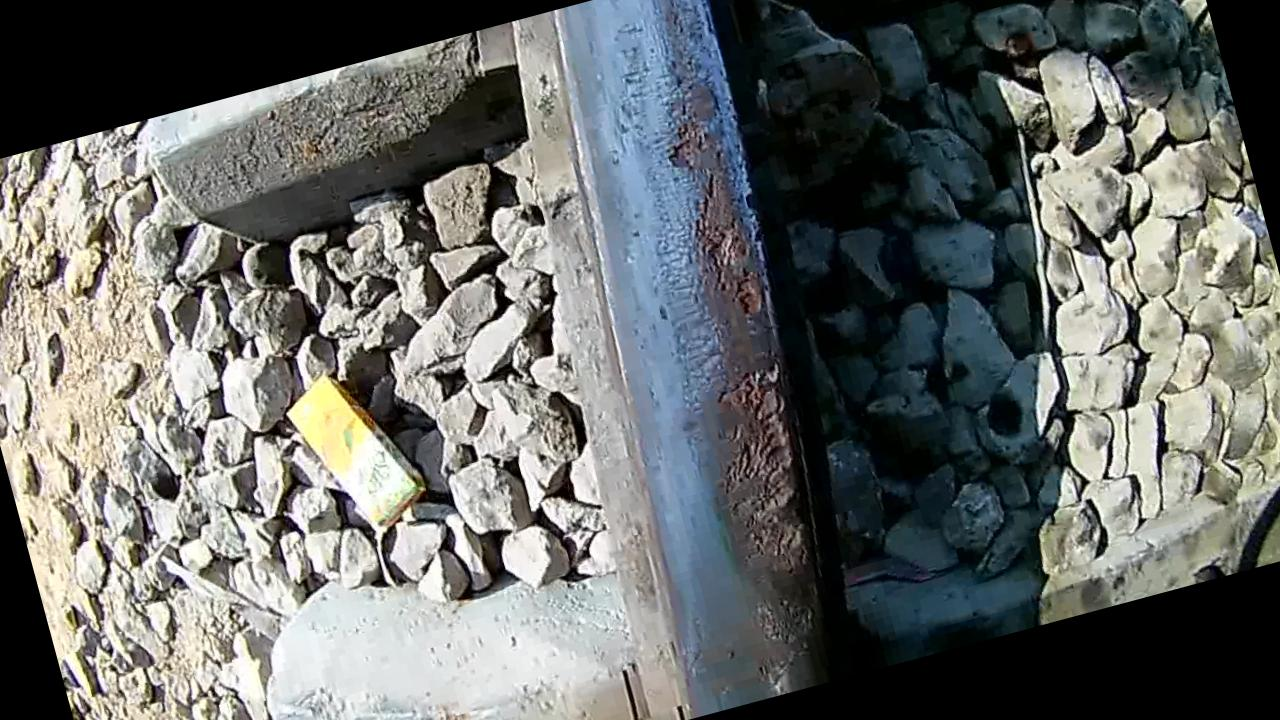crack: (507, 0, 896, 718)
